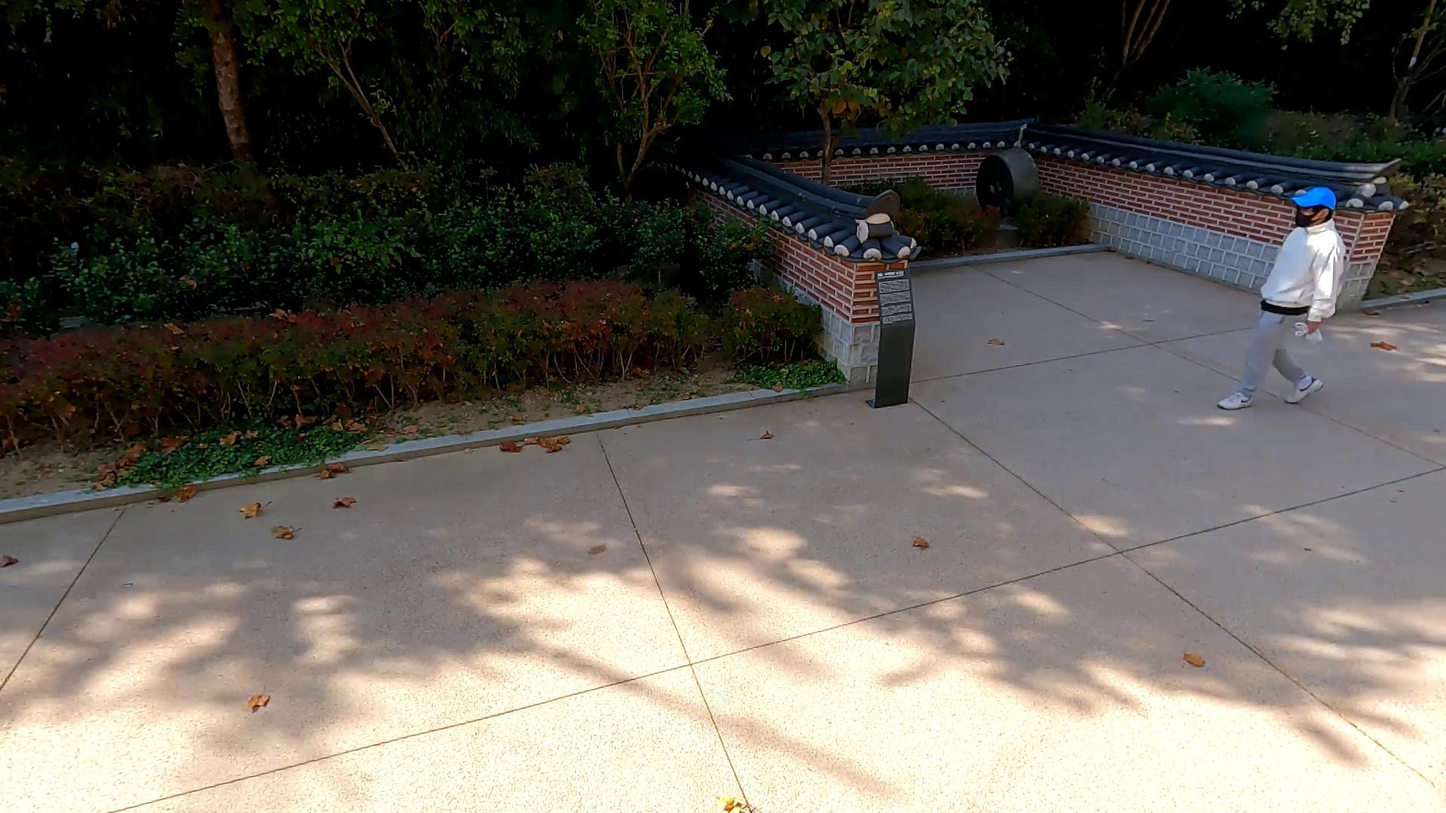person: (1219, 186, 1345, 411)
trash: (1294, 319, 1324, 343)
